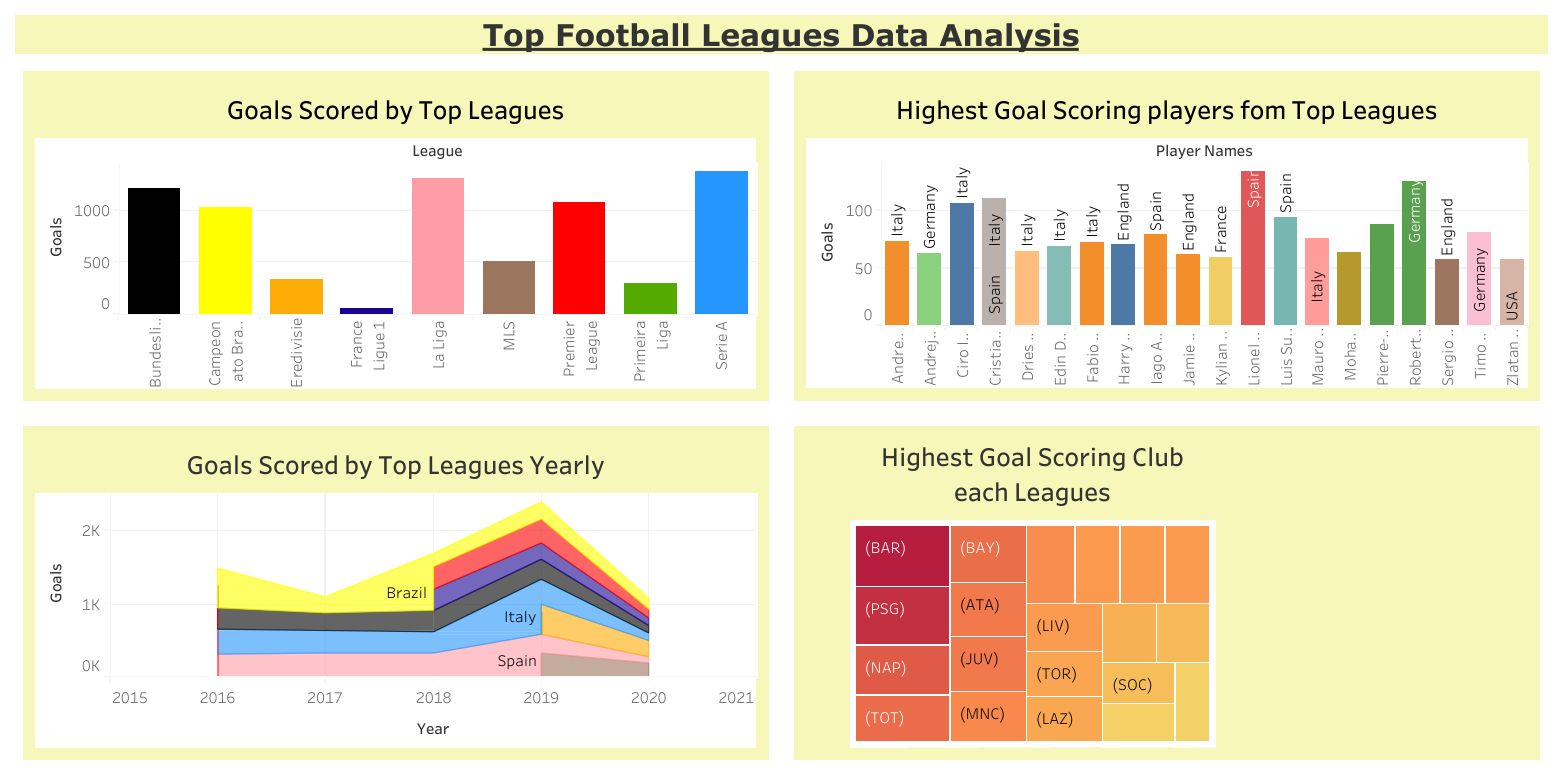

The page's visual inventory and layout, read from the dashboard file:
{"tool":"tableau","page":{"name":"Dashboard 1","canvas":[1000,1000],"units":"permille","ordinal":0},"visuals":[{"type":"title","box":[6.4,9.3,987.2,52.2]},{"type":"worksheet","title":"Sheet 1","mark":"Automatic","rows":["Goals"],"cols":["League"],"box":[6.4,61.5,493.6,462.9]},{"type":"worksheet","title":"Sheet 2","mark":"Automatic","rows":["Goals"],"cols":["Player Names"],"box":[500,61.5,493.6,462.9]},{"type":"worksheet","title":"Sheet 3","mark":"Area","rows":["Goals"],"cols":["Year"],"box":[6.4,524.4,493.6,466.4]},{"type":"worksheet","title":"Sheet 5","mark":"Automatic","rows":["Club"],"cols":["Goals"],"box":[500,524.4,493.6,466.4]}]}

Visuals, with their boxes on the dashboard's canvas, which has no fixed pixel size, in thousandths of its width and height (x1, y1, x2, y2). These are canvas units, not pixel positions in the 1561x781 screenshot, which may show the page scaled, cropped or inside an application window:
title: <region>6, 9, 994, 62</region>
"Sheet 1" worksheet: <region>6, 62, 500, 524</region>
"Sheet 2" worksheet: <region>500, 62, 994, 524</region>
"Sheet 3" worksheet (Area marks): <region>6, 524, 500, 991</region>
"Sheet 5" worksheet: <region>500, 524, 994, 991</region>
